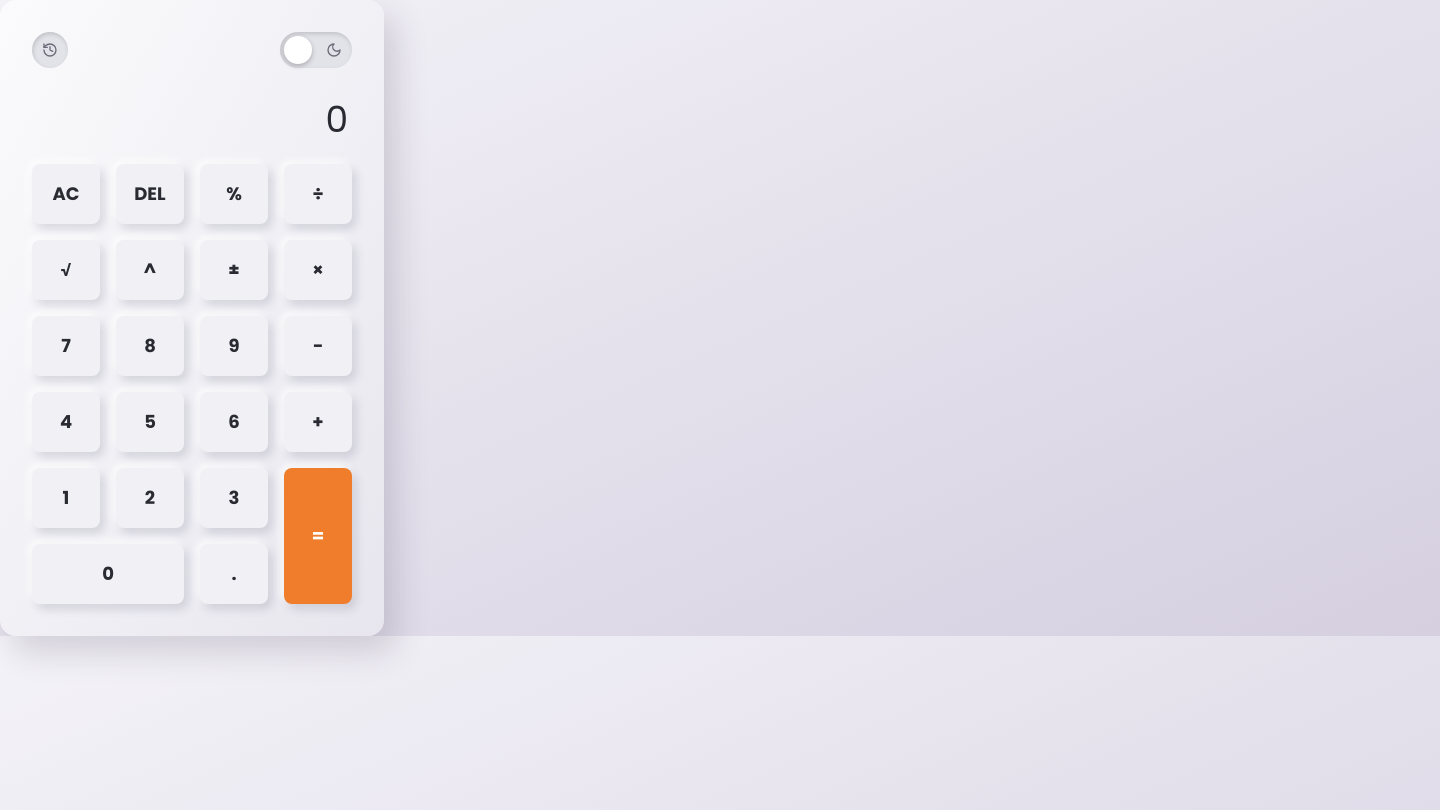
Test: Calculator › starts a new calculation when a digit follows a result
Click the button "1" at (66, 498), box x1=32 y1=468 x2=100 y2=528
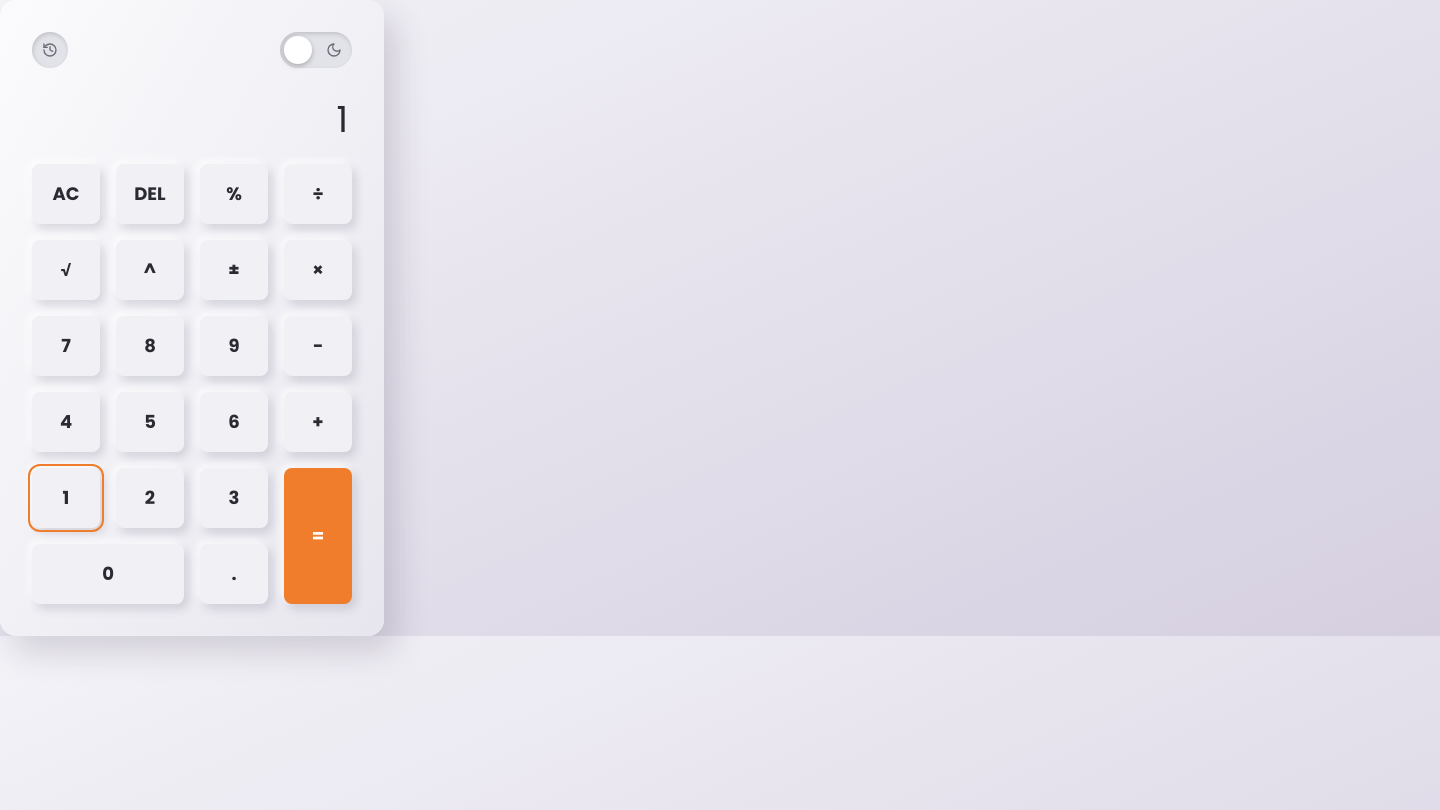
Click the button named "Add" at (318, 422), box x1=284 y1=392 x2=352 y2=452
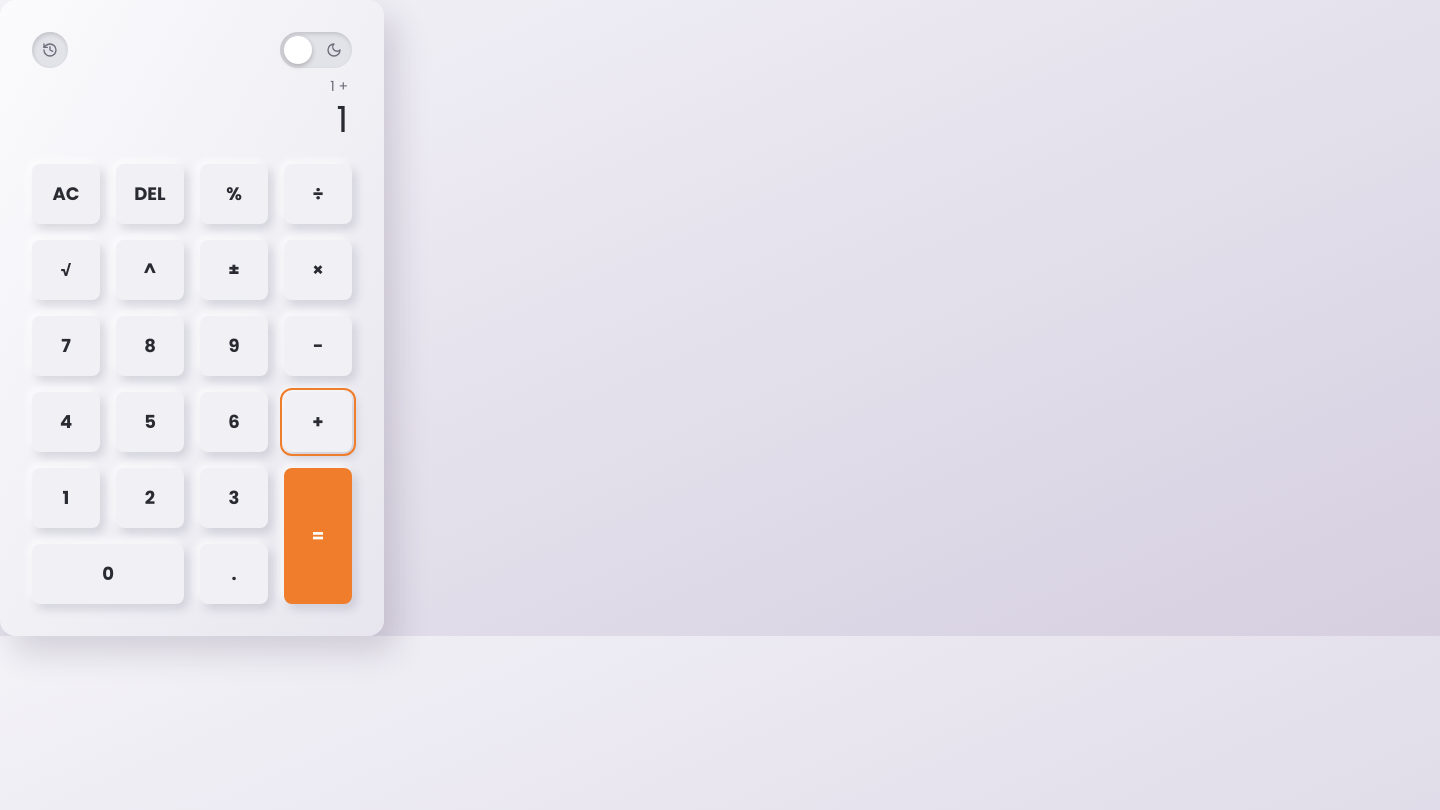
Click the button "2" at (150, 498), box x1=116 y1=468 x2=184 y2=528
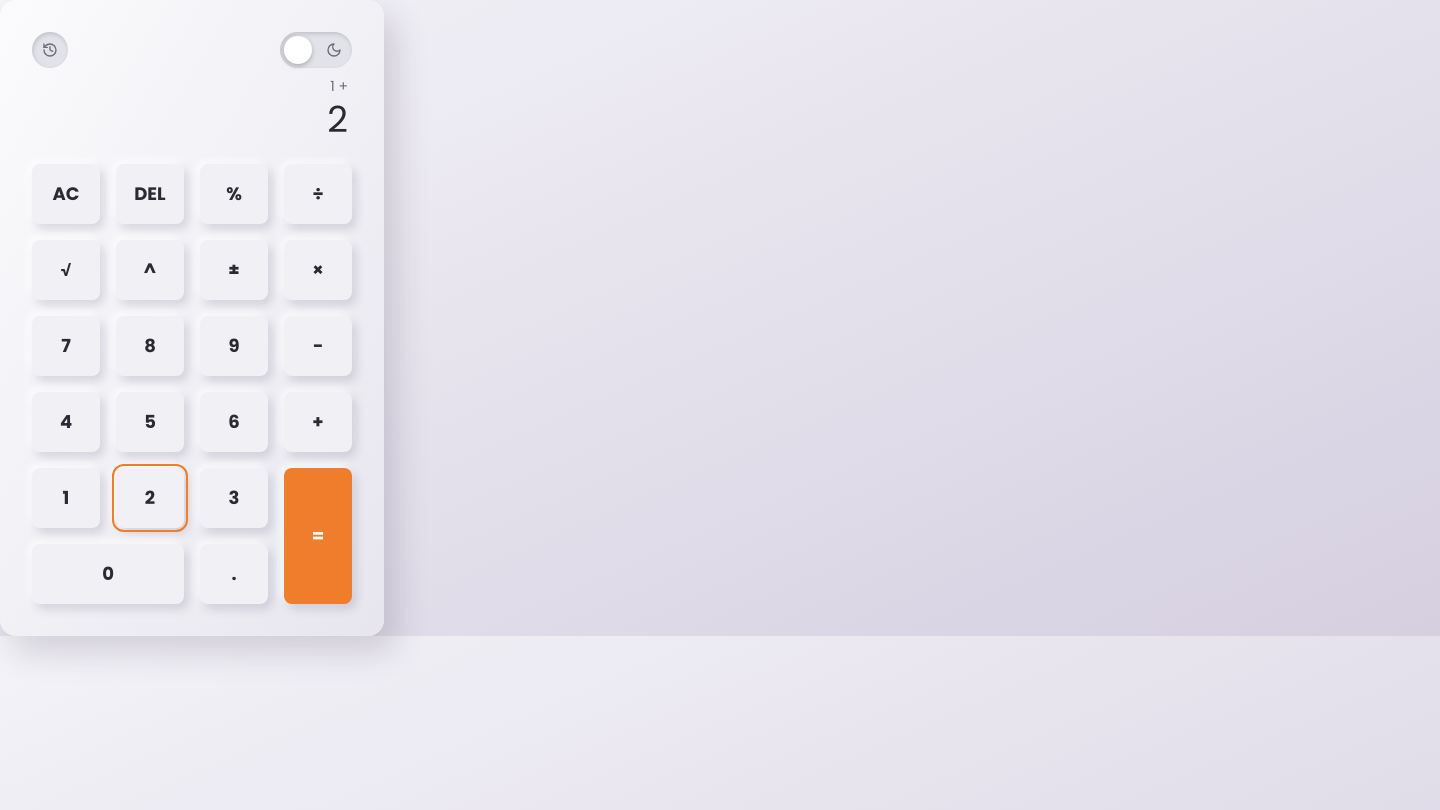
Click the button named "Equals" at (318, 536), box x1=284 y1=468 x2=352 y2=604
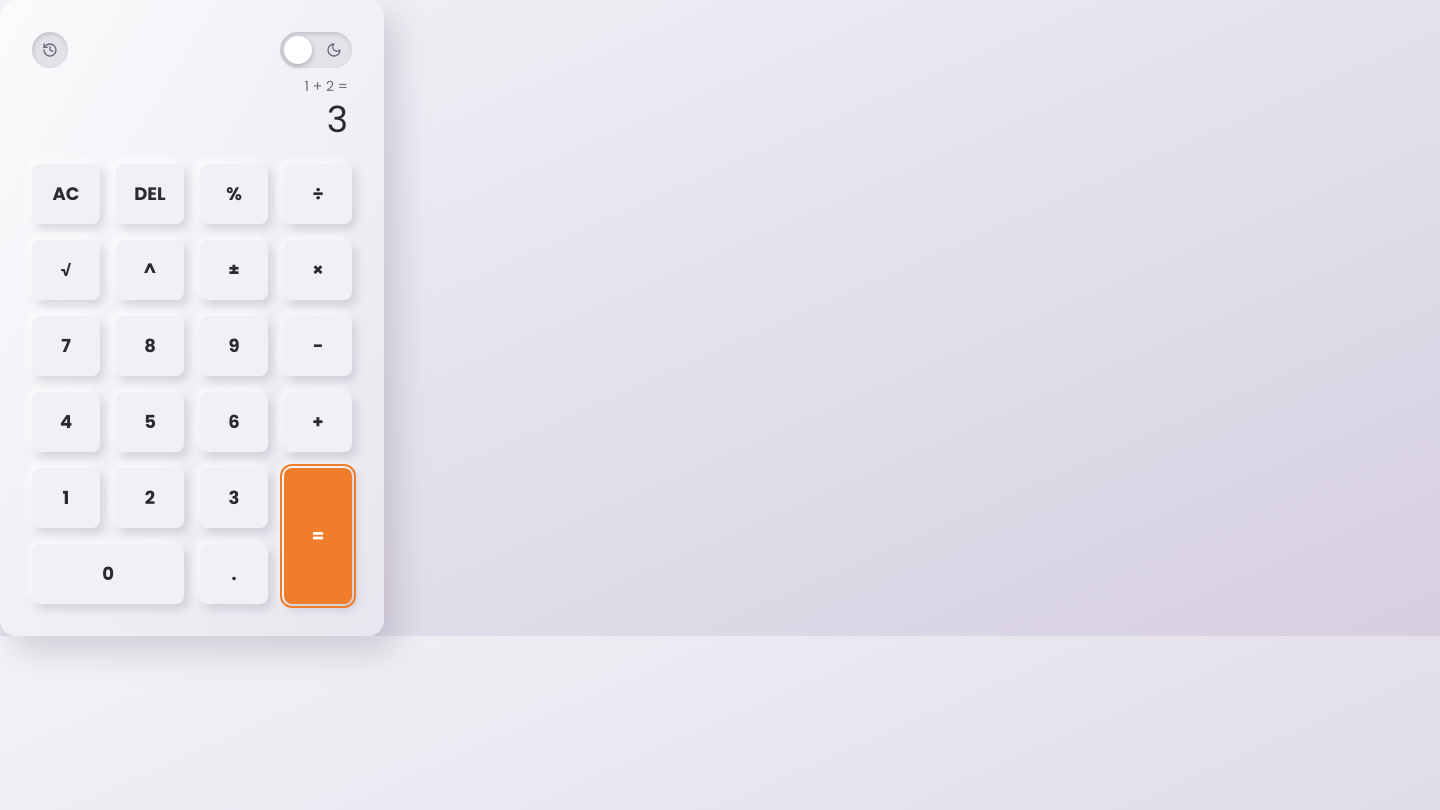
Click the button "7" at (66, 346), box x1=32 y1=316 x2=100 y2=376
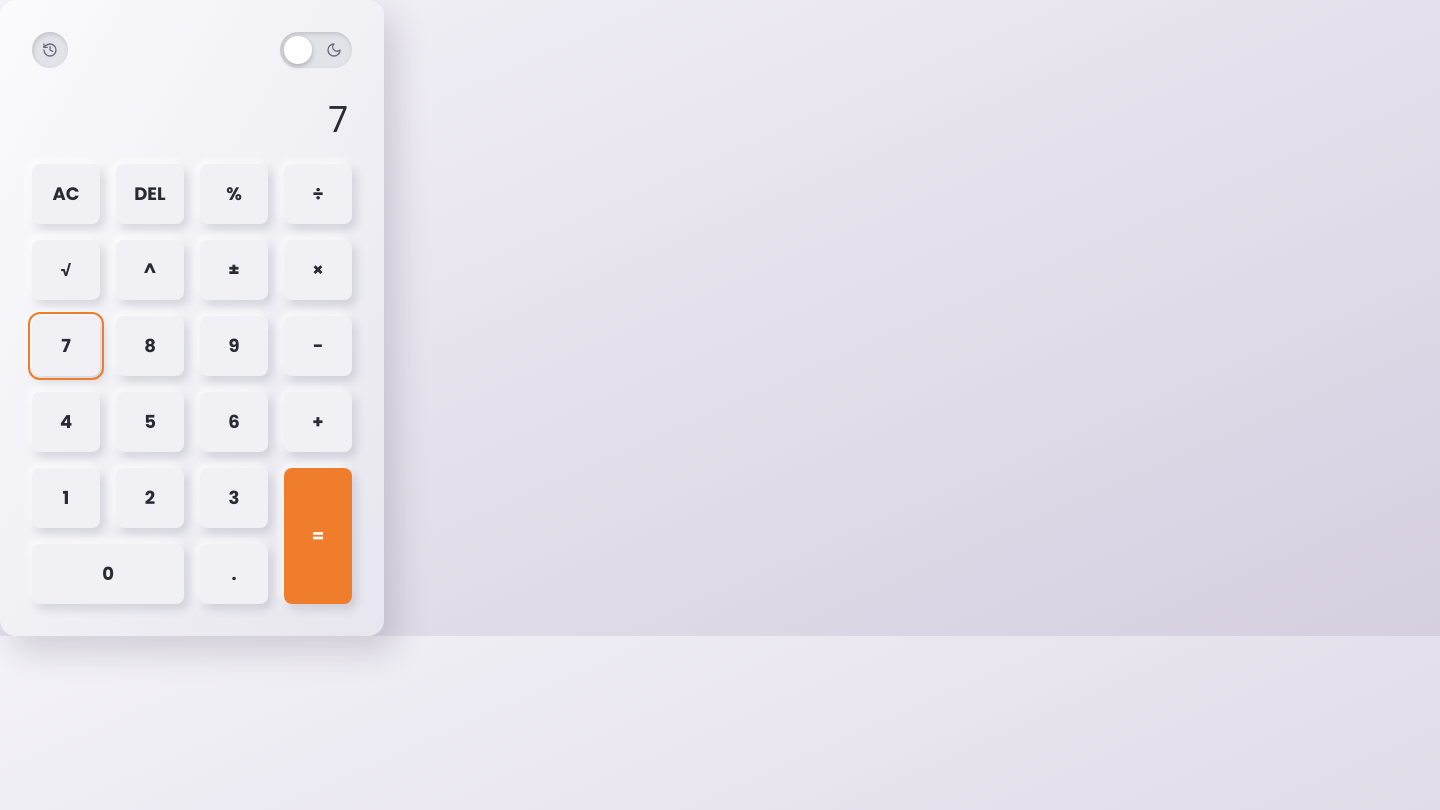
Expected: the element named "Result" does not show "=", x1=328 y1=94 x2=348 y2=145
Now the text "7" is shown, box x1=328 y1=100 x2=348 y2=140
